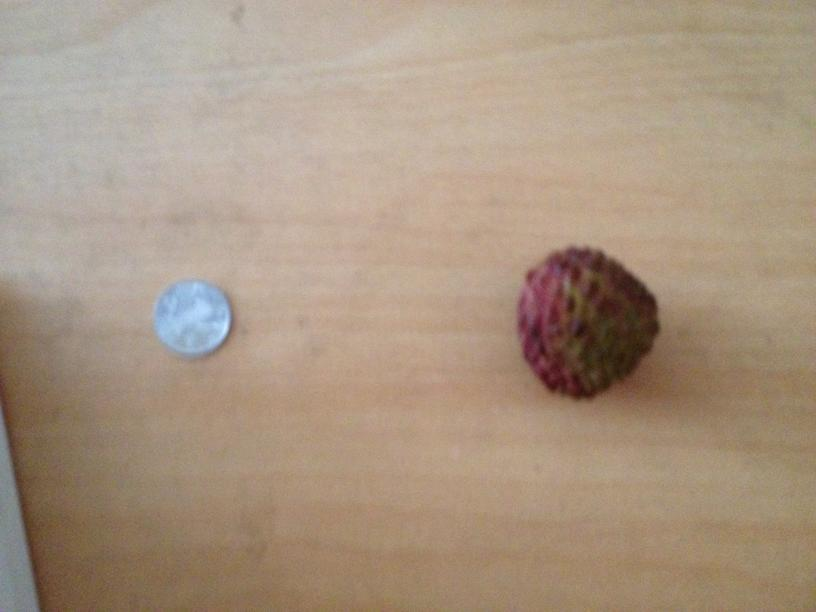coin: (152, 279, 233, 356)
litchi: (523, 245, 661, 399)
